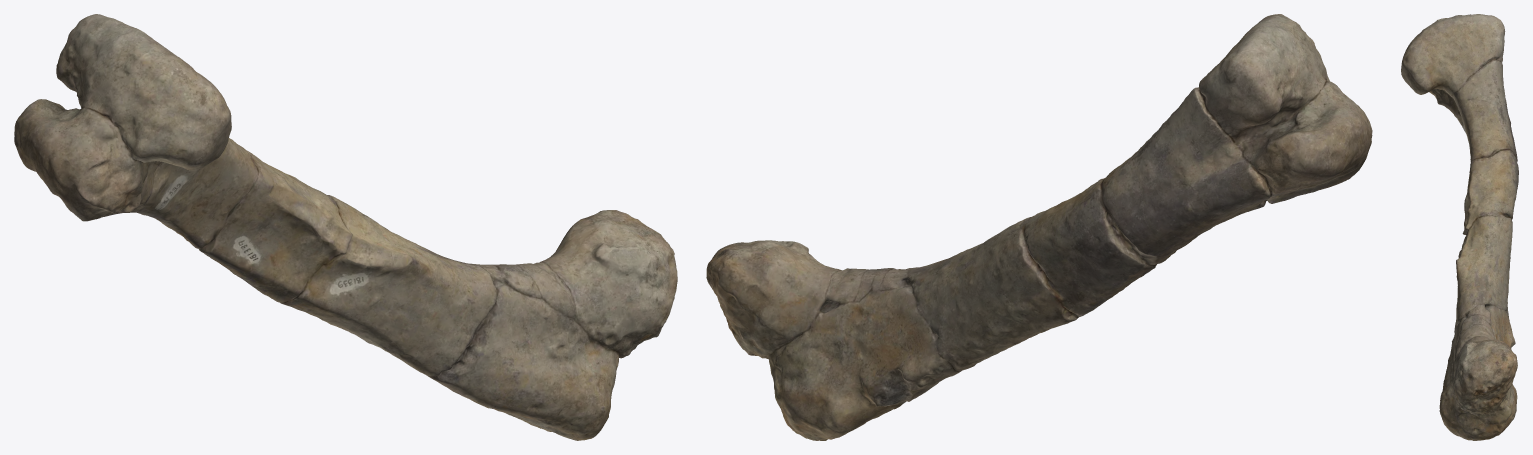
The model's file is 20-01-hadrosaur-femur.glb.
The picture shows the model from 3 angles, left to right: view 1: azimuth 30°, elevation 25°; view 2: azimuth 150°, elevation 25°; view 3: azimuth 270°, elevation 25°; orthographic projection. The views are drawn at different scales.
Parts seen in each view (by area): view 1: Genus_indet-_sp_indet-unwrapped-webmulti; view 2: Genus_indet-_sp_indet-unwrapped-webmulti; view 3: Genus_indet-_sp_indet-unwrapped-webmulti.
Part boxes in pixels (bbox=[...]): Genus_indet-_sp_indet-unwrapped-webmulti: bbox=[14, 14, 677, 440]; Genus_indet-_sp_indet-unwrapped-webmulti: bbox=[706, 14, 1372, 440]; Genus_indet-_sp_indet-unwrapped-webmulti: bbox=[1401, 14, 1518, 440].
Bounding box in the file's own units: 0.298 × 0.2297 × 0.0821.
1 material, 1 textured.
